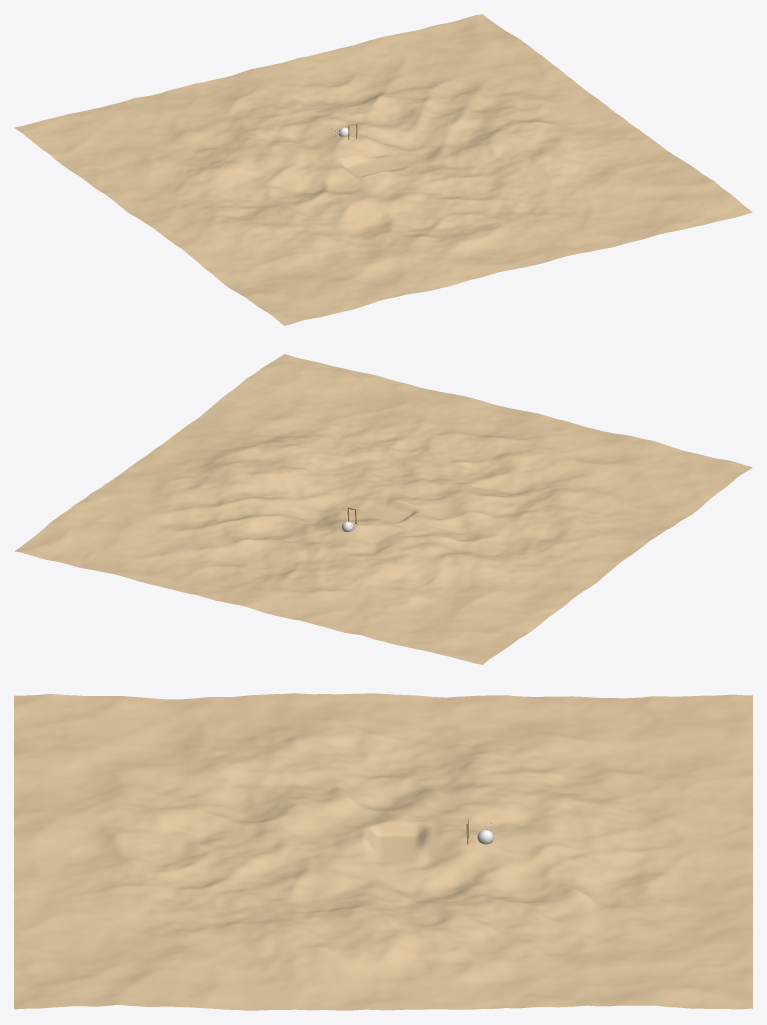
Rendered from desert.glb.
3 views of the same model, one above another, from view 1: azimuth 30°, elevation 25°; view 2: azimuth 150°, elevation 25°; view 3: azimuth 270°, elevation 25° (orthographic). The views are drawn at different scales.
Parts seen in each view (by area): view 1: Terrain; view 2: Terrain; view 3: Terrain.
Part boxes in pixels (x1,y1,x2,y2): Terrain: [14, 14, 752, 325]; Terrain: [14, 354, 752, 664]; Terrain: [14, 693, 752, 1010].
Size of the model in its own units: 420 by 24.87 by 420.
